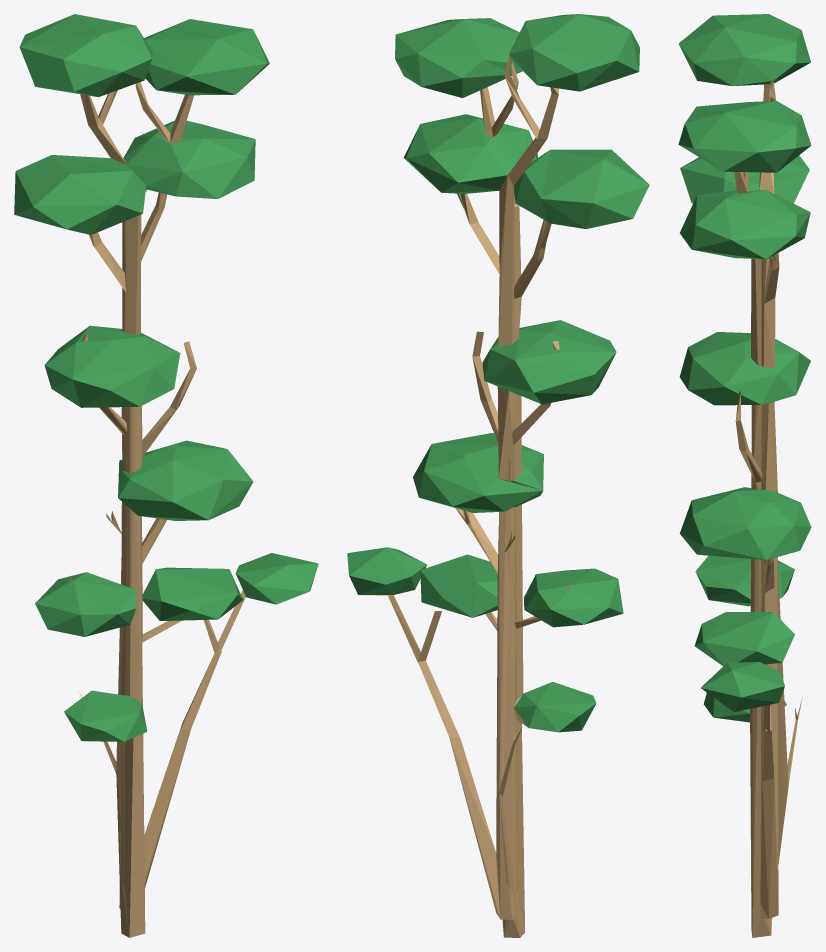
The model's file is tree38.fbx.
3 views of the same model, side by side, from view 1: azimuth 30°, elevation 25°; view 2: azimuth 150°, elevation 25°; view 3: azimuth 270°, elevation 25° (orthographic). The views are drawn at different scales.
Parts seen in each view (by area): view 1: treetype38; view 2: treetype38; view 3: treetype38.
Part boxes in pixels (x1,y1,x2,y2): treetype38: (14,14,318,937); treetype38: (347,14,649,937); treetype38: (678,14,811,937).
Size of the model in its own units: 79.42 by 237 by 32.32.
